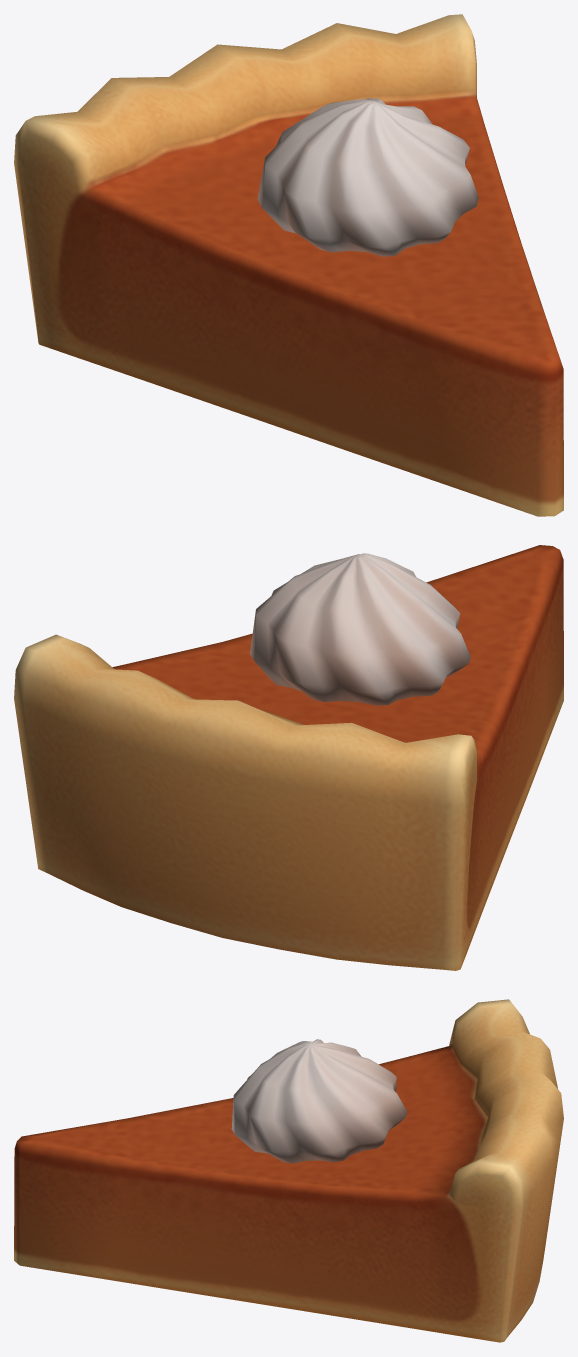
The model's file is pumpkinpie.glb.
The picture shows the model from 3 angles, top to bottom: view 1: azimuth 30°, elevation 25°; view 2: azimuth 150°, elevation 25°; view 3: azimuth 270°, elevation 25°; orthographic projection. The views are drawn at different scales.
Visible parts, largest first — view 1: PumpkinPie_PumpkinPie_0; view 2: PumpkinPie_PumpkinPie_0; view 3: PumpkinPie_PumpkinPie_0.
Boxes of the visible parts, bbox=[...] form: PumpkinPie_PumpkinPie_0: bbox=[14, 14, 563, 516]; PumpkinPie_PumpkinPie_0: bbox=[14, 545, 563, 970]; PumpkinPie_PumpkinPie_0: bbox=[14, 999, 563, 1342].
Size of the model in its own units: 11.54 by 6.8 by 15.45.
Materials: 1 (1 with a texture image).
